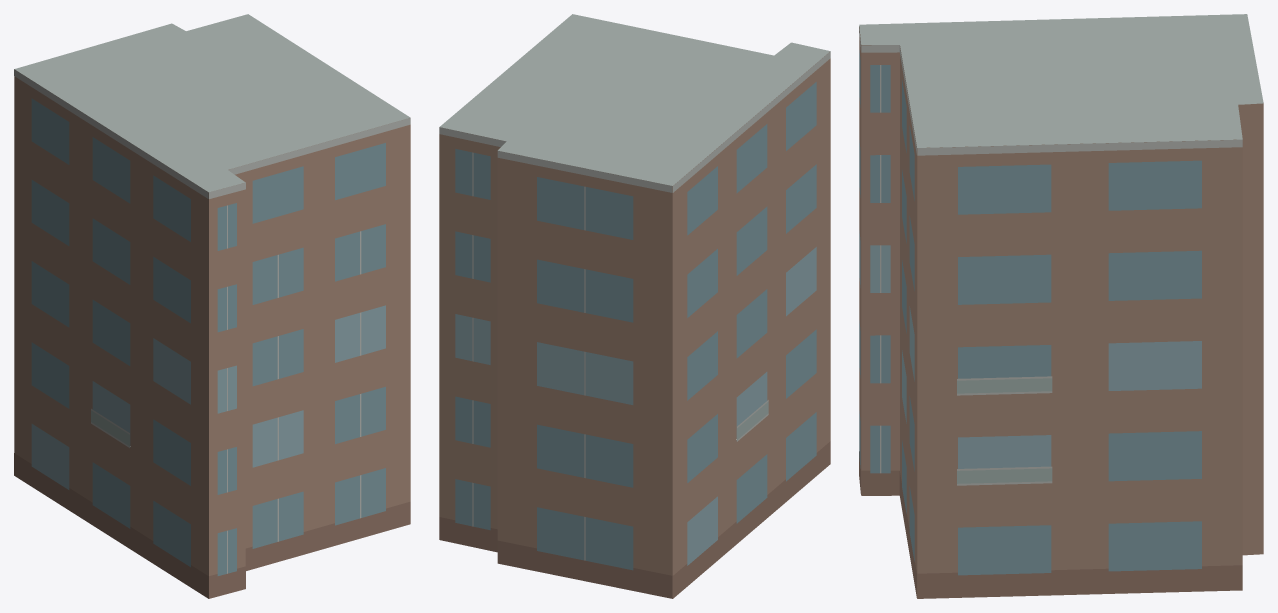
Rendered from survey-upis-32961265.glb.
The picture shows the model from 3 angles, left to right: view 1: azimuth 30°, elevation 25°; view 2: azimuth 150°, elevation 25°; view 3: azimuth 270°, elevation 25°; orthographic projection. The views are drawn at different scales.
Parts seen in each view (by area): view 1: survey-upis-32961265.tmp; view 2: survey-upis-32961265.tmp; view 3: survey-upis-32961265.tmp.
Boxes of the visible parts, x1,y1,x2,y2 form: survey-upis-32961265.tmp: (14, 14, 410, 598); survey-upis-32961265.tmp: (439, 14, 830, 598); survey-upis-32961265.tmp: (859, 14, 1263, 598).
Size of the model in its own units: 9.16 by 14.35 by 11.68.
